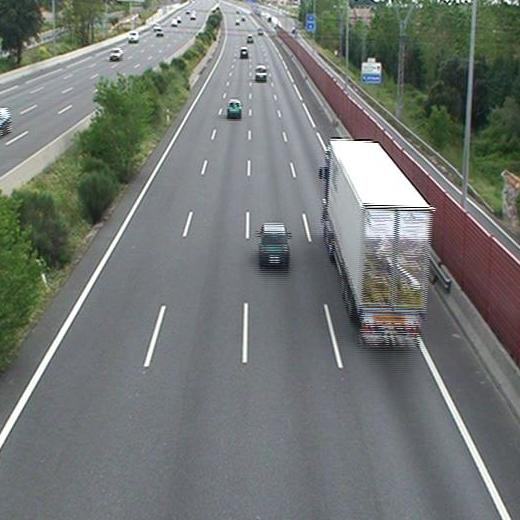car: (260, 223, 290, 262), (227, 100, 242, 116), (255, 66, 268, 80), (239, 48, 248, 57)
truck: (321, 140, 431, 345)
